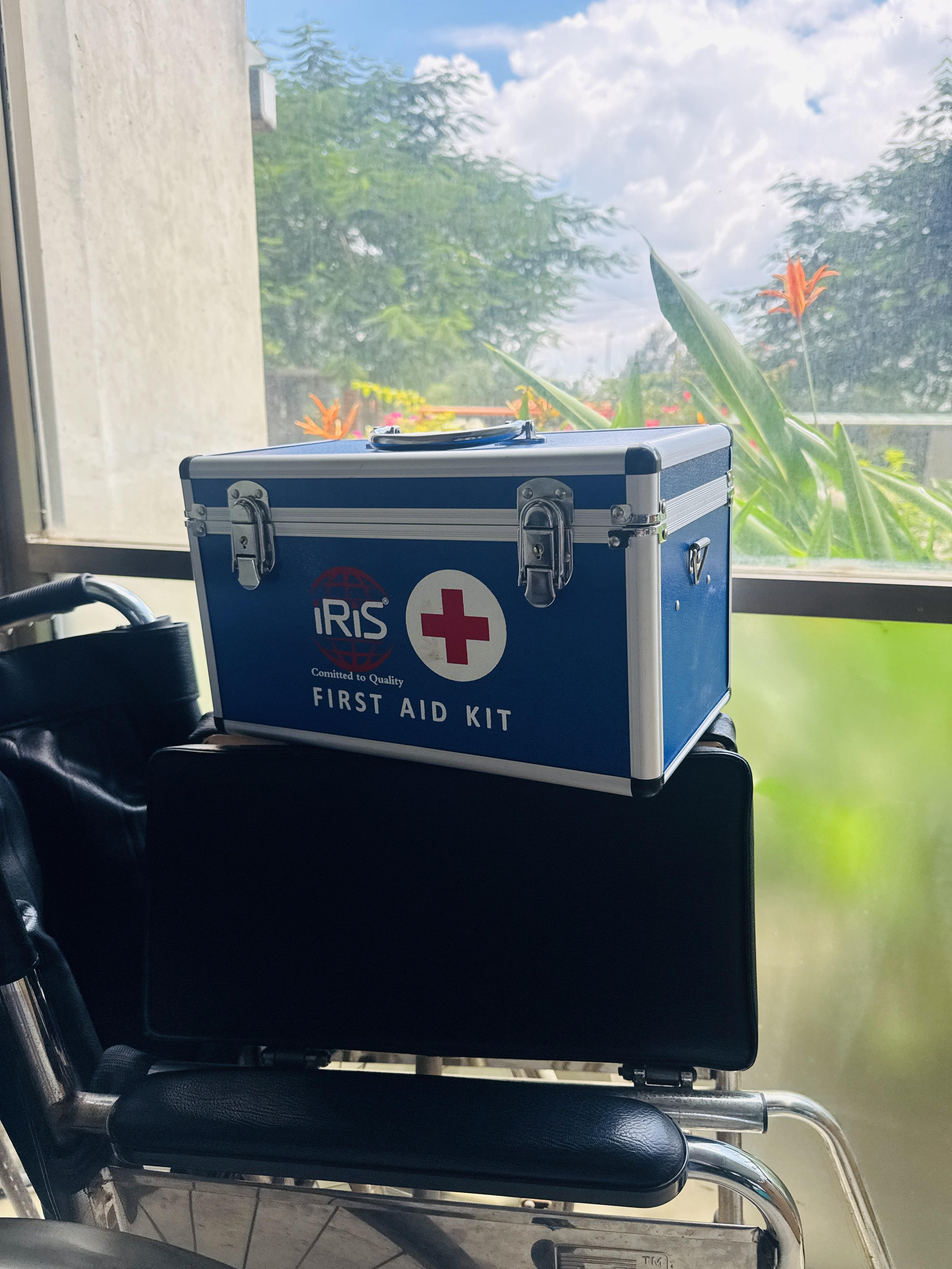FirstAidBox: (164, 402, 747, 826)
